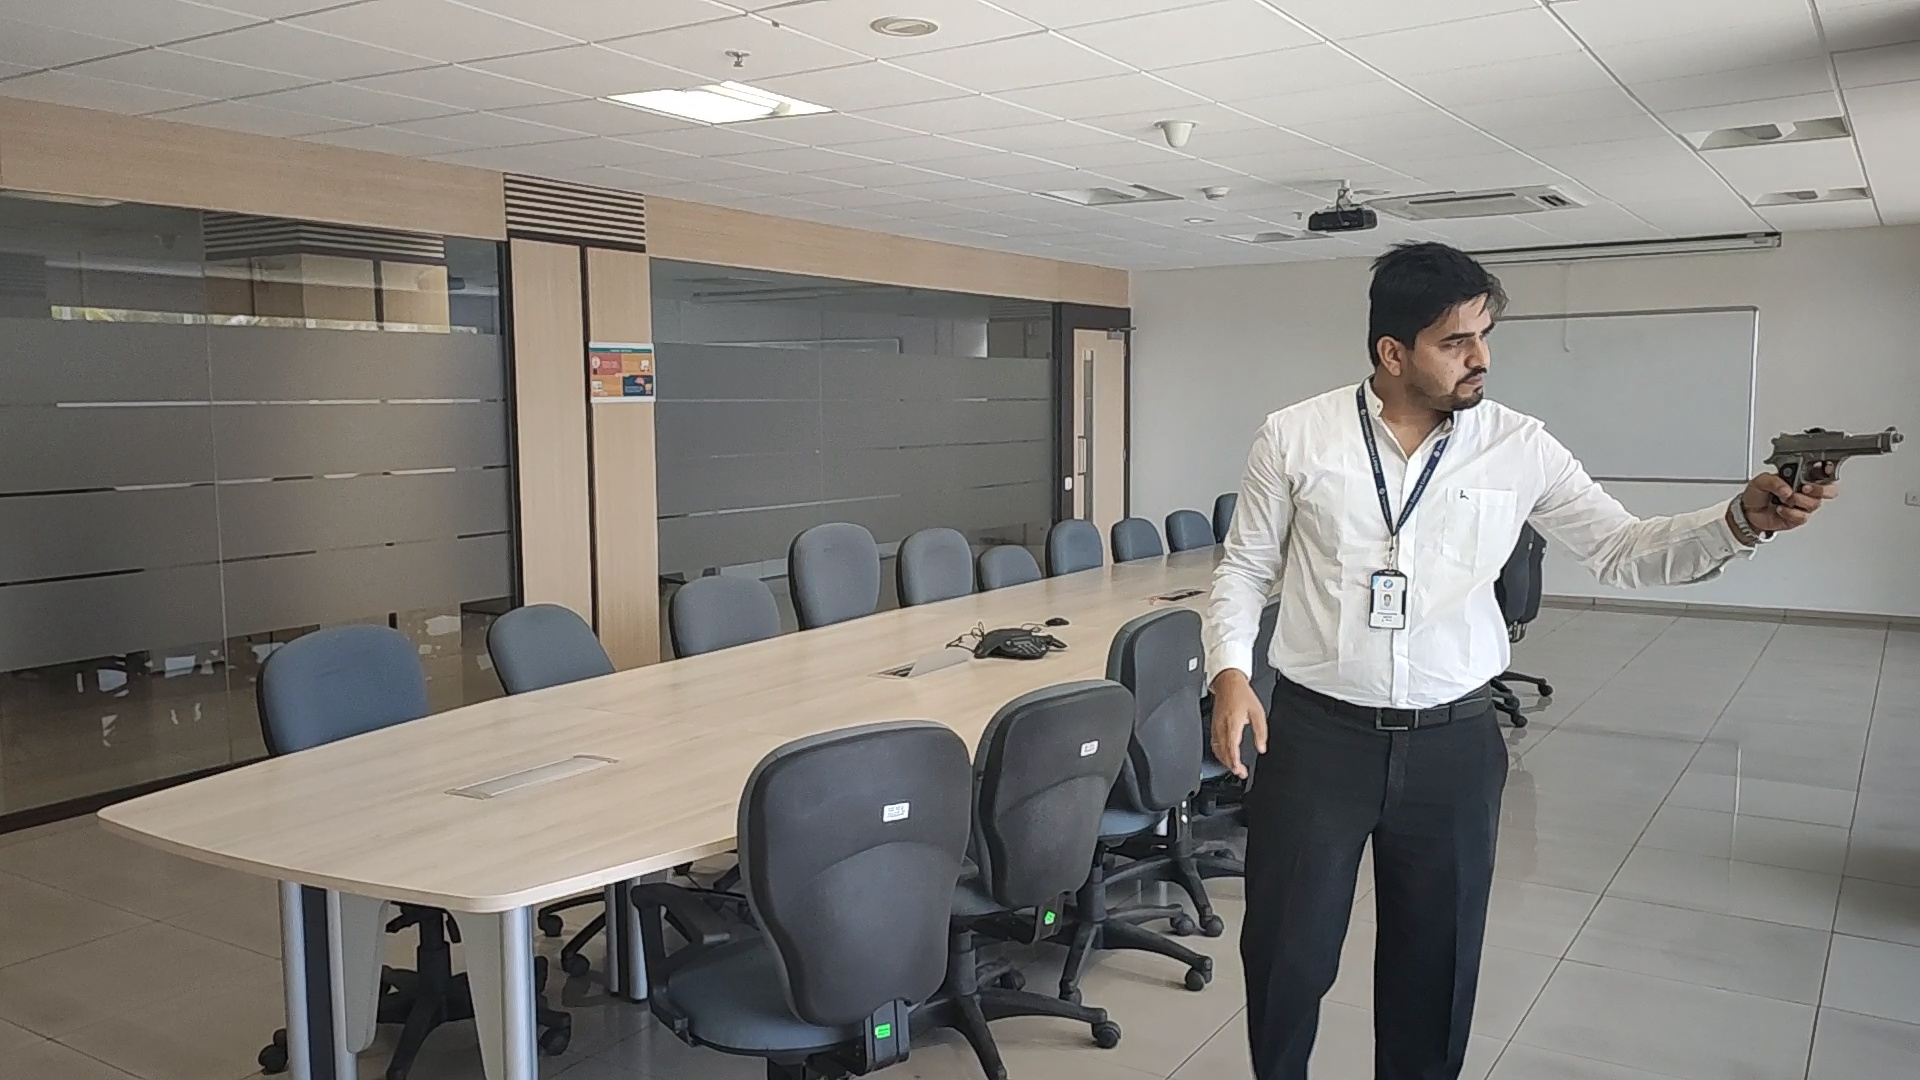gun: (1758, 425, 1907, 473)
